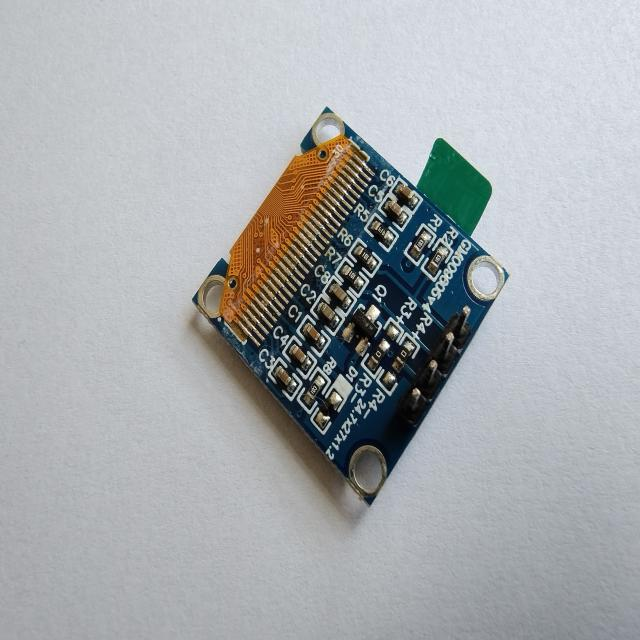oled: (192, 102, 522, 510)
